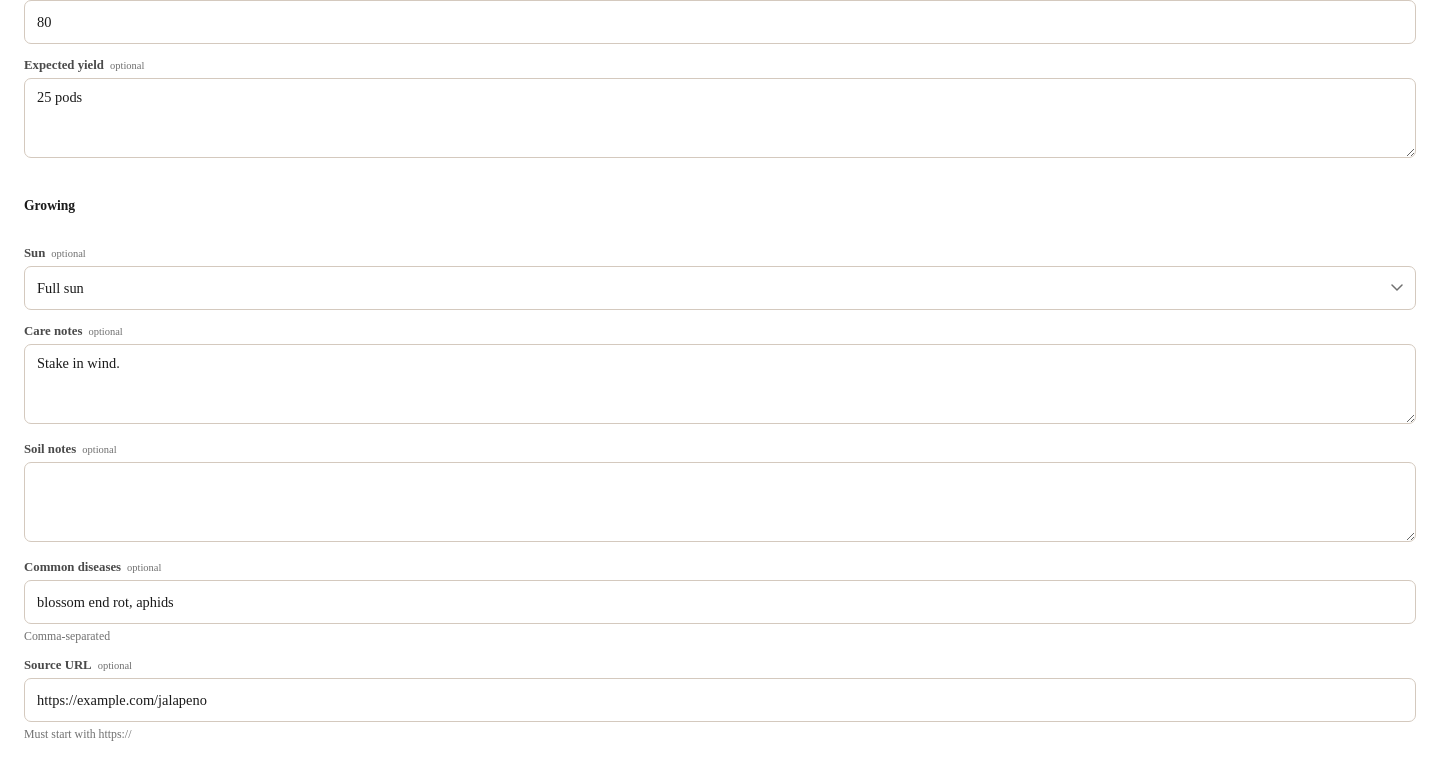
Test: VarietyEditor — round-trip persistence › surfaces a server error and does not report success
(page scrolled)
Replace the text in the 2nd text box with "x" at (720, 384), box [24,344,1416,424]
(page scrolled)
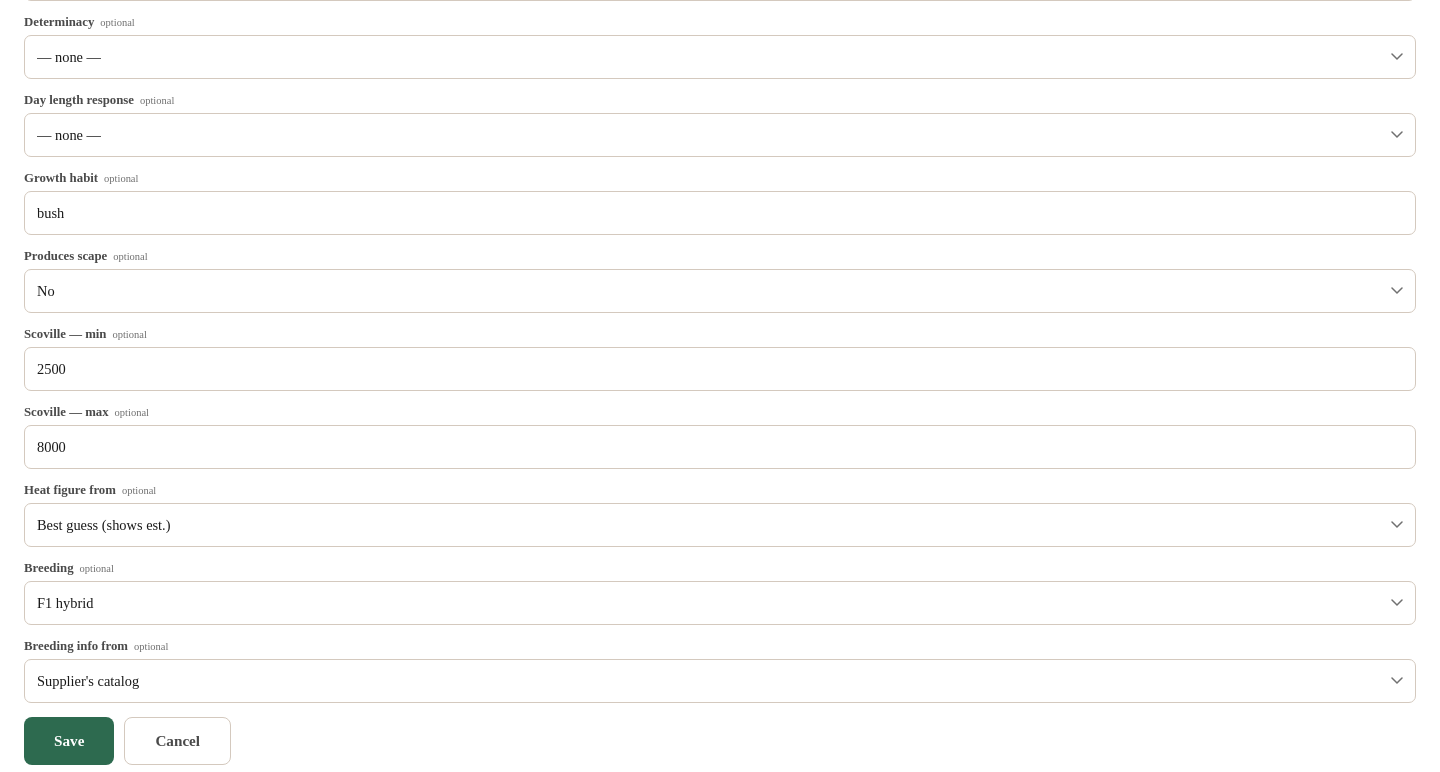
Click the button "Save" at (69, 741), box [24,717,114,765]
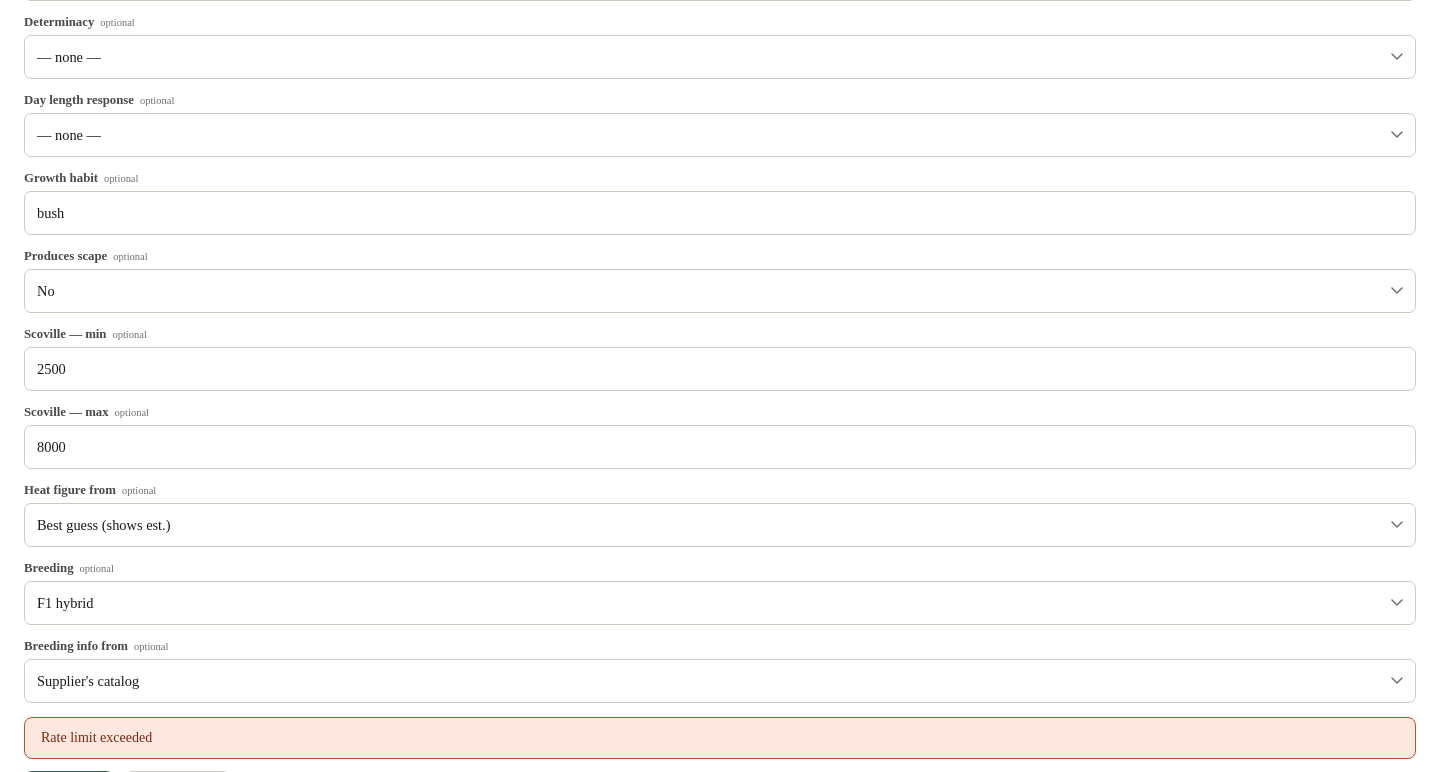
Expected: the message reads "Rate limit exceeded", [41,730,152,745]
